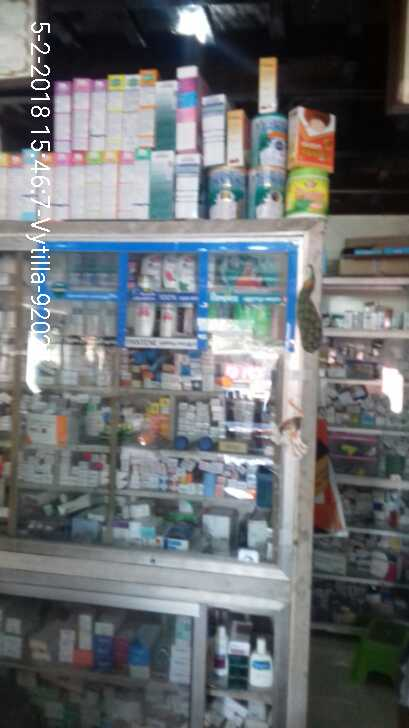vicks: (55, 266, 124, 295)
